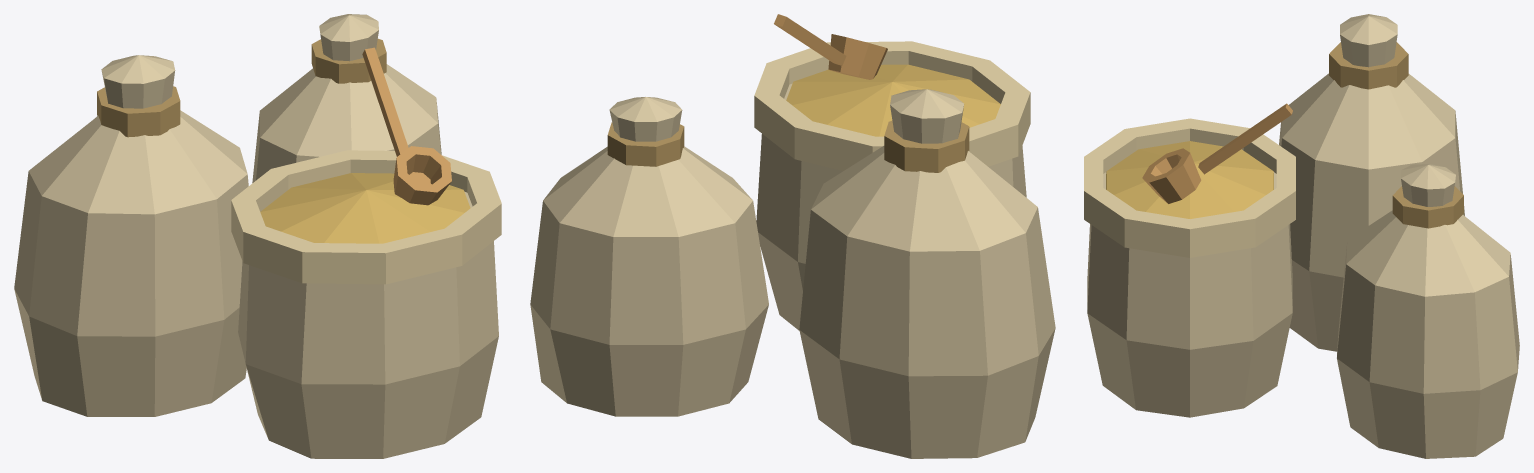
File: seed-sack-pixor.glb
3 renders of one model, left to right at view 1: azimuth 30°, elevation 25°; view 2: azimuth 150°, elevation 25°; view 3: azimuth 270°, elevation 25°, orthographic. The views are drawn at different scales.
Parts seen in each view (by area): view 1: Sacks, Sack rim, Sack seed, Sack scoop, Sack ties; view 2: Sacks, Sack rim, Sack seed, Sack ties, Sack scoop; view 3: Sacks, Sack rim, Sack seed, Sack ties, Sack scoop.
Boxes of the visible parts, box(x1,y1,x2,y2) form: Sacks: box(14, 14, 498, 458); Sack rim: box(231, 150, 501, 284); Sack seed: box(260, 173, 470, 243); Sack scoop: box(362, 47, 451, 205); Sack ties: box(97, 38, 386, 137); Sacks: box(530, 83, 1055, 458); Sack rim: box(754, 41, 1030, 170); Sack seed: box(786, 64, 1000, 136); Sack ties: box(607, 121, 969, 172); Sack scoop: box(774, 14, 887, 79); Sacks: box(1087, 14, 1519, 458); Sack rim: box(1084, 118, 1295, 257); Sack seed: box(1106, 141, 1273, 218); Sack ties: box(1329, 42, 1463, 228); Sack scoop: box(1142, 103, 1292, 203).
Bounding box in the file's own units: 1.19 × 0.825 × 1.1.
